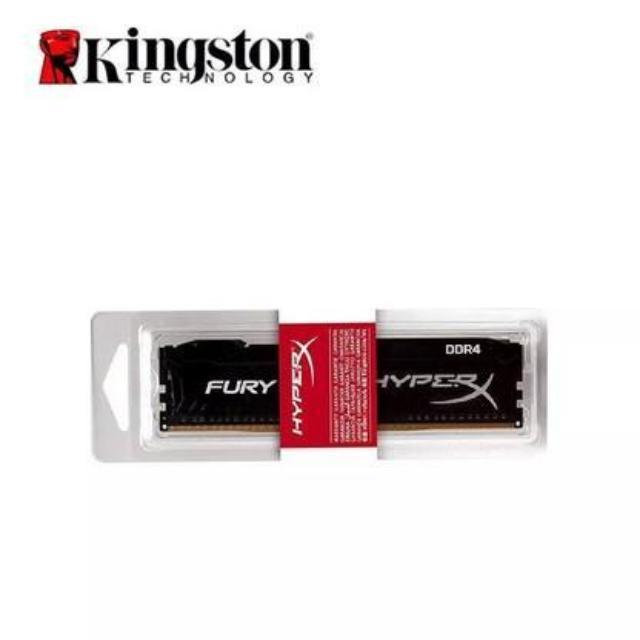RAM: (154, 336, 528, 438)
